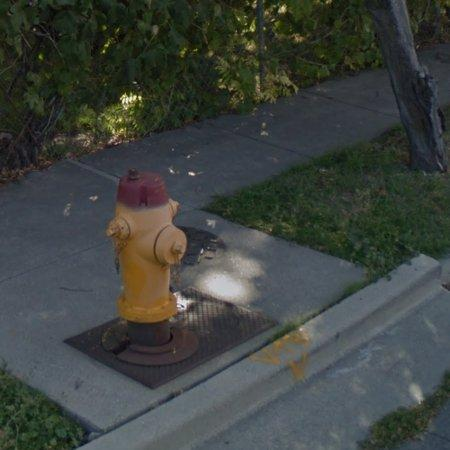a fire hydrant: (106, 170, 187, 324)
